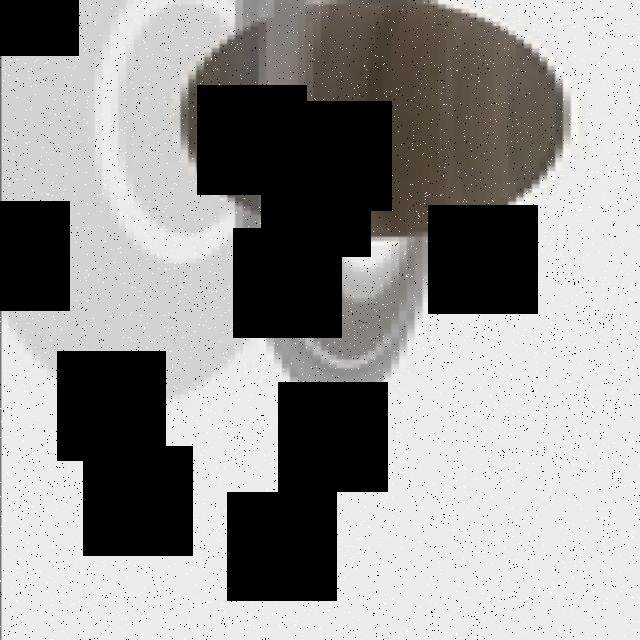Saturn: (164, 0, 586, 417)
